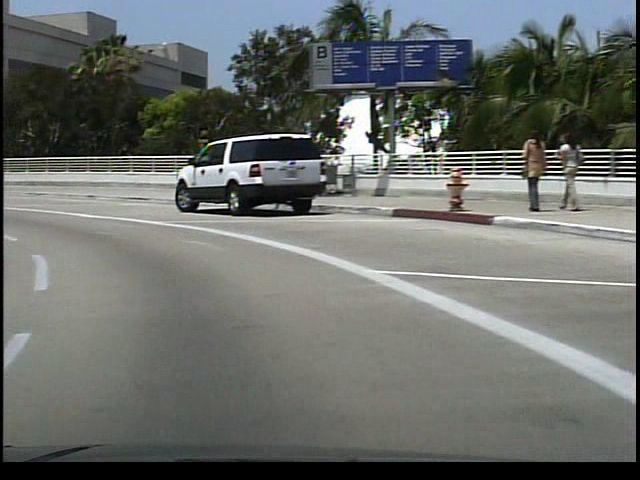person: (547, 129, 577, 213), (512, 126, 539, 217)
